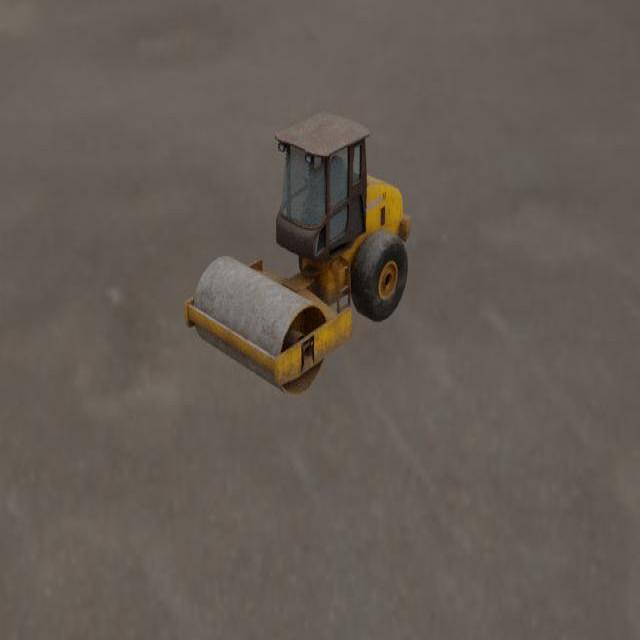Roller: (184, 112, 411, 397)
